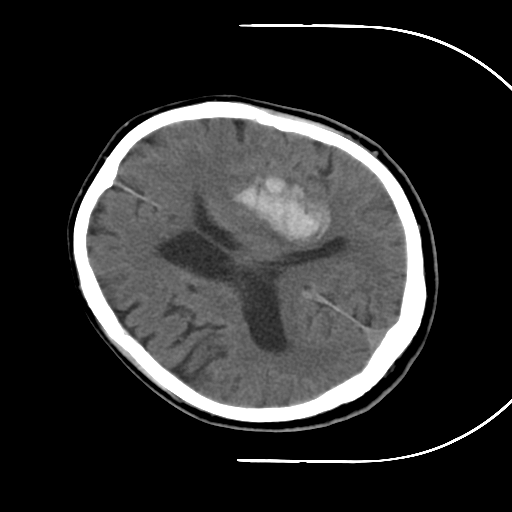a: (215, 156, 347, 261)
